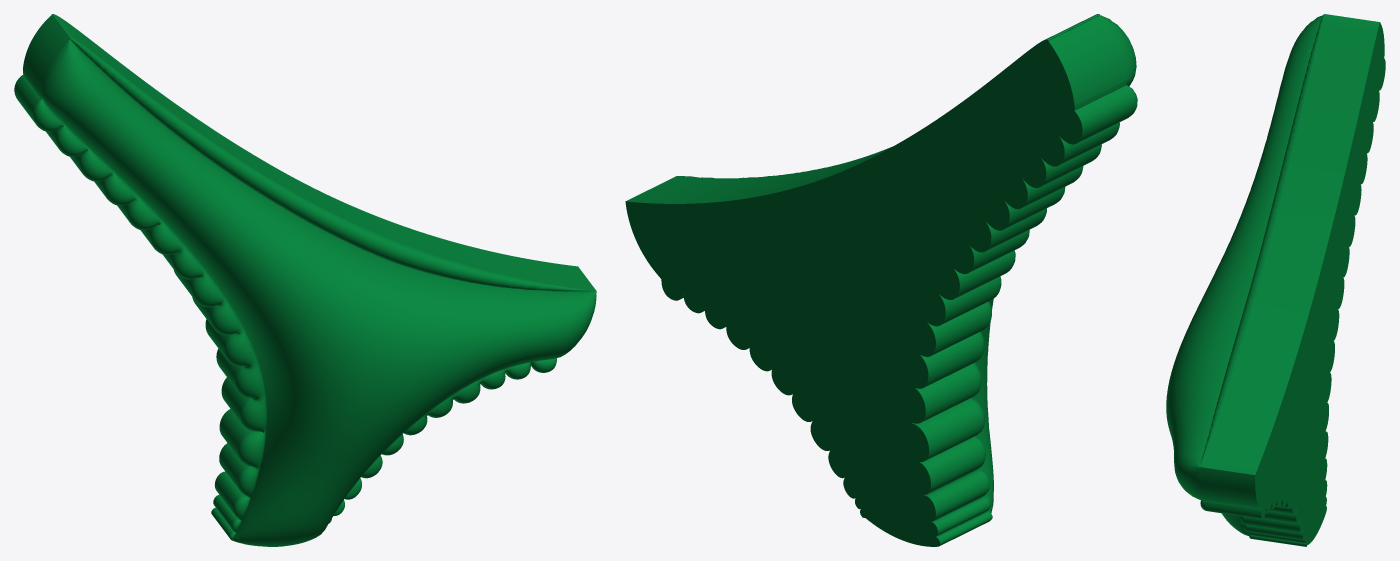
Rendered from charms1.glb.
3 views of the same model, side by side, from view 1: azimuth 30°, elevation 25°; view 2: azimuth 150°, elevation 25°; view 3: azimuth 270°, elevation 25° (orthographic). The views are drawn at different scales.
Parts seen in each view (by area): view 1: Recurso 1-1.001; view 2: Recurso 1-1.001; view 3: Recurso 1-1.001.
Boxes of the visible parts, x1,y1,x2,y2 form: Recurso 1-1.001: [14, 14, 596, 546]; Recurso 1-1.001: [625, 14, 1137, 546]; Recurso 1-1.001: [1166, 14, 1385, 546].
Bounding box in the file's own units: 3.37 × 3.34 × 1.49.
